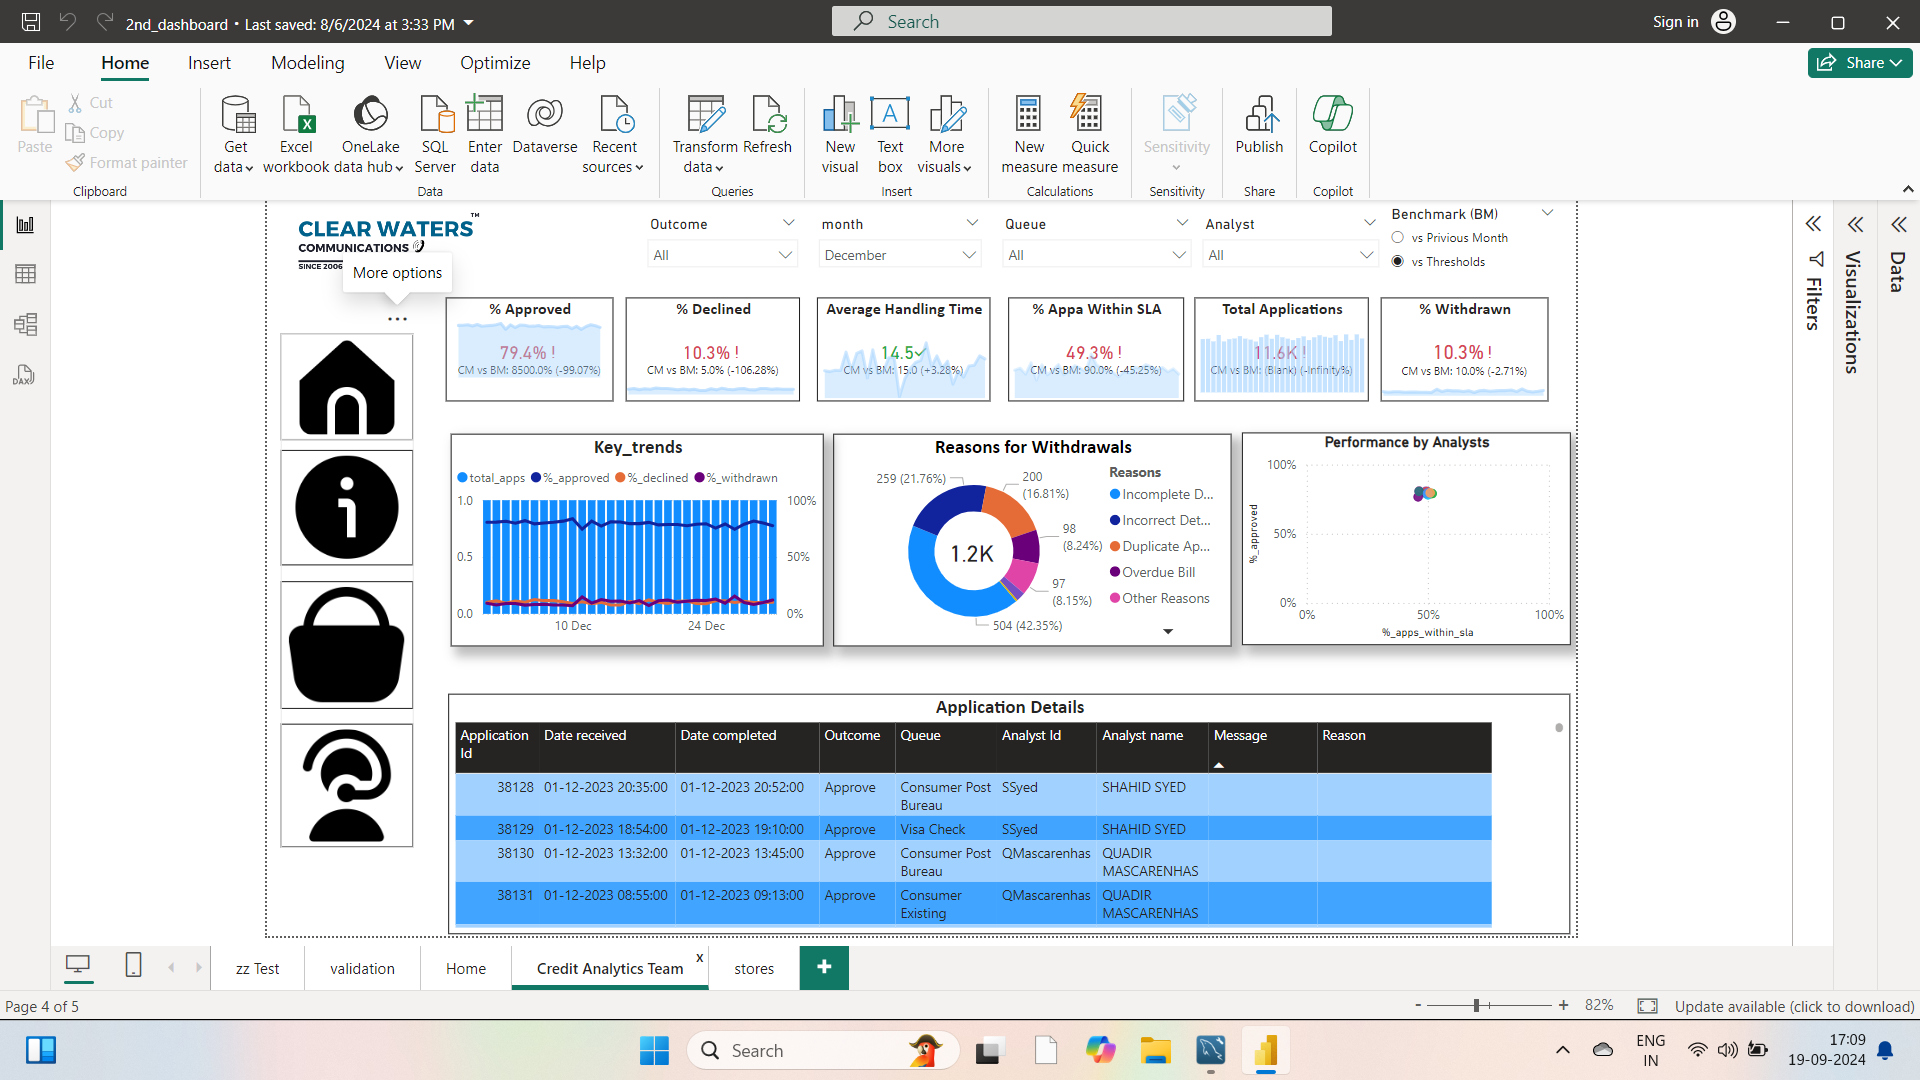

What the dashboard file says about the page in this screenshot:
{"tool":"powerbi","page":{"name":"Credit Analytics Team","canvas":[1280,720],"ordinal":3},"visuals":[{"type":"image","box":[0,0,302.7,129.1],"z":0},{"type":"image","box":[30.9,194.5,93.6,79.6],"z":0,"group":"g3"},{"type":"slicer","fields":{"Values":["flt_benchmark_type.benchmark_type"]},"box":[1026.7,7.8,204.4,66.7],"z":1000},{"type":"lineClusteredColumnComboChart","fields":{"Y2":["Key Measures.%_apps_approved","Key Measures.%_apps_declined","Key Measures.%_apps_withdraw"],"Y":["Key Measures.total_apps_actioned"],"Category":["dim_date.Date"]},"box":[189.1,266.6,361.3,193.2],"z":1000,"group":"g2"},{"type":"image","box":[30.9,395.5,93.6,79.6],"z":1000,"group":"g3"},{"type":"donutChart","fields":{"Category":["fact_applications.updated_reason"],"Y":["key_measures.total_apps_actioned"]},"box":[558.8,266.9,301.8,193.4],"z":1500},{"type":"textbox","box":[266.4,81.8,152.7,33.6],"z":2000},{"type":"textbox","box":[192.8,229,358.2,29.6],"z":2000,"group":"g2"},{"type":"textbox","box":[770.9,84.5,142.7,27.3],"z":3000},{"type":"textbox","box":[557.8,229,305.4,29.6],"z":3000,"group":"g2"},{"type":"textbox","box":[926.4,84.5,144.5,27.3],"z":4000},{"type":"image","box":[30.9,496.7,93.6,79.6],"z":4000,"group":"g3"},{"type":"tableEx","fields":{"Values":["fact_applications.app_id","fact_applications.date_tagged","fact_applications.date_actioned","fact_applications.outcome_name","fact_applications.queue_name","fact_applications.analyst_id","fact_applications.analyst_full_name","fact_applications.message","fact_applications.updated_reason"]},"box":[187.3,510.1,1060.7,209.9],"z":4000,"group":"g2"},{"type":"textbox","box":[1087.3,84.5,143.6,27.3],"z":5000},{"type":"image","box":[30.9,293.4,93.6,79.6],"z":5000,"group":"g3"},{"type":"textbox","box":[189.7,472.9,1063.1,27.3],"z":5000,"group":"g2"},{"type":"textbox","box":[873.9,229,373.4,32.2],"z":6000,"group":"g2"},{"type":"card","fields":{"Values":["key_measures.#_apps_withdraw"]},"box":[455,327.5,60,47.5],"z":6000},{"type":"clusteredColumnChart","fields":{"Category":["dim_date.Date"],"Y":["key_measures.total_apps_actioned"]},"box":[266.4,110.9,152.7,67.3],"z":7000},{"type":"scatterChart","fields":{"Series":["fact_applications.analyst_full_name"],"Y":["key_measures.%_apps_approved"],"X":["key_measures.%_apps_within_sla"],"Size":["key_measures.total_apps_actioned"]},"box":[873.4,267.6,374.8,192.1],"z":7000,"group":"g2"},{"type":"slicer","fields":{"Values":["dim_analyst.analyst_name"]},"box":[811.7,5,144.2,60],"z":8000},{"type":"kpi","fields":{"Indicator":["key_measures.total_apps_actioned"],"Goal":["key_measures.%_apps_actioned_vs_benchmark"],"TrendLine":["dim_date.updated_month"]},"box":[266,116.4,153.1,88.7],"z":9000},{"type":"textbox","box":[431.1,84.4,150,26.7],"z":10000},{"type":"kpi","fields":{"Indicator":["key_measures.%_apps_within_sla"],"Goal":["key_measures.%_apps_within_sla_previous_vs_benchmark"],"TrendLine":["dim_date.updated_month"]},"box":[430.7,118.2,150.4,86.9],"z":11000},{"type":"slicer","fields":{"Values":["dim_queue.queue_name"]},"box":[660.7,5.6,157,59.5],"z":12000,"group":"g1"},{"type":"areaChart","fields":{"Category":["dim_date.Date"],"Y":["key_measures.%_apps_approved"]},"box":[770.9,110.9,142.7,67.3],"z":12000},{"type":"slicer","fields":{"Values":["dim_outcome.outcome_name"]},"box":[331.1,7.2,167.3,58.6],"z":13000,"group":"g1"},{"type":"kpi","fields":{"TrendLine":["dim_date.updated_month"],"Indicator":["key_measures.%_apps_approved"],"Goal":["key_measures.%_apps_approved_vs_benchmark"]},"box":[771,116.4,142.4,88.7],"z":13000},{"type":"slicer","fields":{"Values":["dim_date.updated_month"]},"box":[494.6,8.1,167,58.6],"z":14000,"group":"g1"},{"type":"areaChart","fields":{"Category":["dim_date.Date"],"Y":["key_measures.%_apps_declined"]},"box":[926.4,111.8,144.5,67.3],"z":14000},{"type":"kpi","fields":{"TrendLine":["dim_date.updated_month"],"Indicator":["key_measures.%_apps_declined"],"Goal":["key_measures.%_apps_declined_vs_benchmark"]},"box":[926,117.3,145.1,87.8],"z":15000},{"type":"areaChart","fields":{"Category":["dim_date.Date"],"Y":["key_measures.%_apps_withdraw"]},"box":[1087.3,112.7,143.6,67.3],"z":16000},{"type":"kpi","fields":{"TrendLine":["dim_date.updated_month"],"Indicator":["key_measures.%_apps_withdraw"],"Goal":["key_measures.%_apps_withdraw_vs_benchmark"]},"box":[1087.2,118.2,144.2,86.9],"z":17000},{"type":"group","id":"g1","title":"Group 1","box":[331.1,5.6,486.7,61.1],"z":18000},{"type":"areaChart","fields":{"Category":["dim_date.Date"],"Y":["key_measures.%_apps_within_sla"]},"box":[429,114.6,153.1,63.6],"z":19000},{"type":"textbox","box":[593.3,87.8,150,26.7],"z":20000},{"type":"kpi","fields":{"TrendLine":["dim_date.updated_month"],"Indicator":["key_measures.aht"],"Goal":["key_measures.aht_vs_benchmark"]},"box":[593.7,116.4,149.6,88.7],"z":21000},{"type":"areaChart","fields":{"Category":["dim_date.Date"],"Y":["key_measures.aht"]},"box":[591.8,118.7,152.4,61.7],"z":22000},{"type":"card","fields":{"Values":["key_measures.#_apps_withdraw"]},"box":[677.9,339.4,61.8,48.4],"z":23000},{"type":"group","id":"g2","title":"Group 2","box":[187.3,229,1065.5,491],"z":24000},{"type":"shape","box":[151.8,88.2,21.8,622.7],"z":25000},{"type":"group","id":"g3","title":"Group 3","box":[30.9,194.5,93.6,381.8],"z":27000}]}

Visuals, with their boxes on the page's 1280x720 design canvas (x1, y1, x2, y2). These are canvas units, not pixel positions in the 1920x1080 screenshot, which may show the page scaled, cropped or inside an application window:
image: [x1=0, y1=0, x2=303, y2=129]
image: [x1=31, y1=194, x2=124, y2=274]
slicer - flt_benchmark_type.benchmark_type: [x1=1027, y1=8, x2=1231, y2=74]
lineClusteredColumnComboChart - Key Measures.%_apps_approved x Key Measures.%_apps_declined: [x1=189, y1=267, x2=550, y2=460]
image: [x1=31, y1=396, x2=124, y2=475]
donutChart - fact_applications.updated_reason x key_measures.total_apps_actioned: [x1=559, y1=267, x2=861, y2=460]
textbox: [x1=266, y1=82, x2=419, y2=115]
textbox: [x1=193, y1=229, x2=551, y2=259]
textbox: [x1=771, y1=84, x2=914, y2=112]
textbox: [x1=558, y1=229, x2=863, y2=259]
textbox: [x1=926, y1=84, x2=1071, y2=112]
image: [x1=31, y1=497, x2=124, y2=576]
tableEx - fact_applications.app_id x fact_applications.date_tagged: [x1=187, y1=510, x2=1248, y2=720]
textbox: [x1=1087, y1=84, x2=1231, y2=112]
image: [x1=31, y1=293, x2=124, y2=373]
textbox: [x1=190, y1=473, x2=1253, y2=500]
textbox: [x1=874, y1=229, x2=1247, y2=261]
card - key_measures.#_apps_withdraw: [x1=455, y1=328, x2=515, y2=375]
clusteredColumnChart - dim_date.Date x key_measures.total_apps_actioned: [x1=266, y1=111, x2=419, y2=178]
scatterChart - fact_applications.analyst_full_name x key_measures.%_apps_approved: [x1=873, y1=268, x2=1248, y2=460]
slicer - dim_analyst.analyst_name: [x1=812, y1=5, x2=956, y2=65]
kpi - key_measures.total_apps_actioned x key_measures.%_apps_actioned_vs_benchmark: [x1=266, y1=116, x2=419, y2=205]
textbox: [x1=431, y1=84, x2=581, y2=111]
kpi - key_measures.%_apps_within_sla x key_measures.%_apps_within_sla_previous_vs_benchmark: [x1=431, y1=118, x2=581, y2=205]
slicer - dim_queue.queue_name: [x1=661, y1=6, x2=818, y2=65]
areaChart - dim_date.Date x key_measures.%_apps_approved: [x1=771, y1=111, x2=914, y2=178]
slicer - dim_outcome.outcome_name: [x1=331, y1=7, x2=498, y2=66]
kpi - dim_date.updated_month x key_measures.%_apps_approved: [x1=771, y1=116, x2=913, y2=205]
slicer - dim_date.updated_month: [x1=495, y1=8, x2=662, y2=67]
areaChart - dim_date.Date x key_measures.%_apps_declined: [x1=926, y1=112, x2=1071, y2=179]
kpi - dim_date.updated_month x key_measures.%_apps_declined: [x1=926, y1=117, x2=1071, y2=205]
areaChart - dim_date.Date x key_measures.%_apps_withdraw: [x1=1087, y1=113, x2=1231, y2=180]
kpi - dim_date.updated_month x key_measures.%_apps_withdraw: [x1=1087, y1=118, x2=1231, y2=205]
"Group 1" group: [x1=331, y1=6, x2=818, y2=67]
areaChart - dim_date.Date x key_measures.%_apps_within_sla: [x1=429, y1=115, x2=582, y2=178]
textbox: [x1=593, y1=88, x2=743, y2=114]
kpi - dim_date.updated_month x key_measures.aht: [x1=594, y1=116, x2=743, y2=205]
areaChart - dim_date.Date x key_measures.aht: [x1=592, y1=119, x2=744, y2=180]
card - key_measures.#_apps_withdraw: [x1=678, y1=339, x2=740, y2=388]
"Group 2" group: [x1=187, y1=229, x2=1253, y2=720]
shape: [x1=152, y1=88, x2=174, y2=711]
"Group 3" group: [x1=31, y1=194, x2=124, y2=576]
